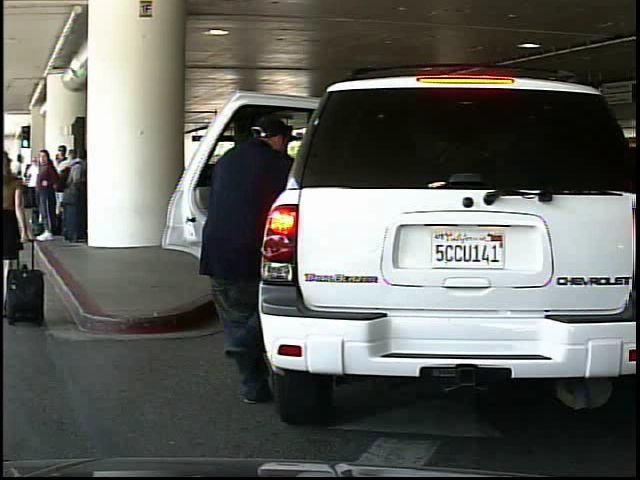person: (193, 108, 300, 377)
